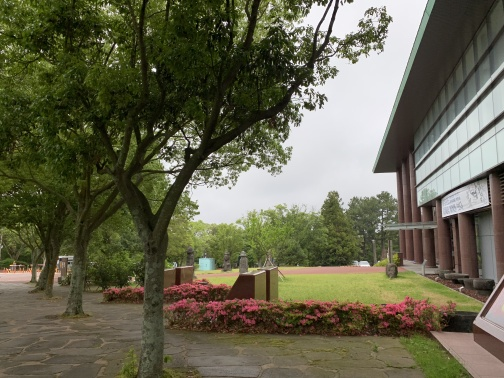Museum: (370, 2, 502, 344)
